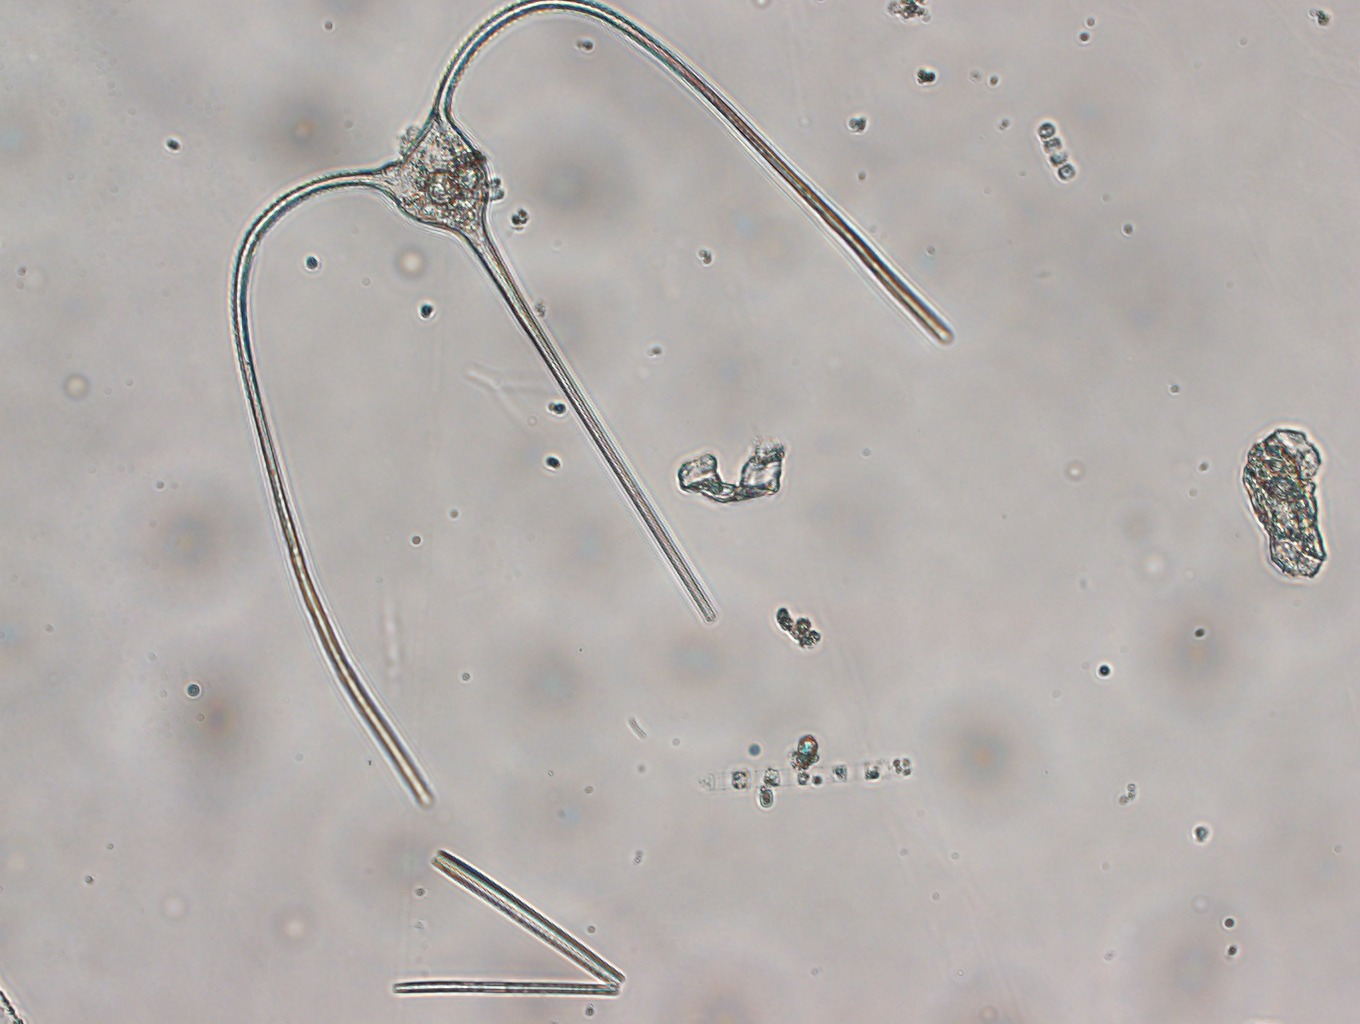ceratium trichoceros: (218, 1, 962, 817)
skeletonema: (689, 728, 914, 813), (1032, 112, 1080, 183)
thalassionema frauenfeldii: (386, 840, 633, 1009)
